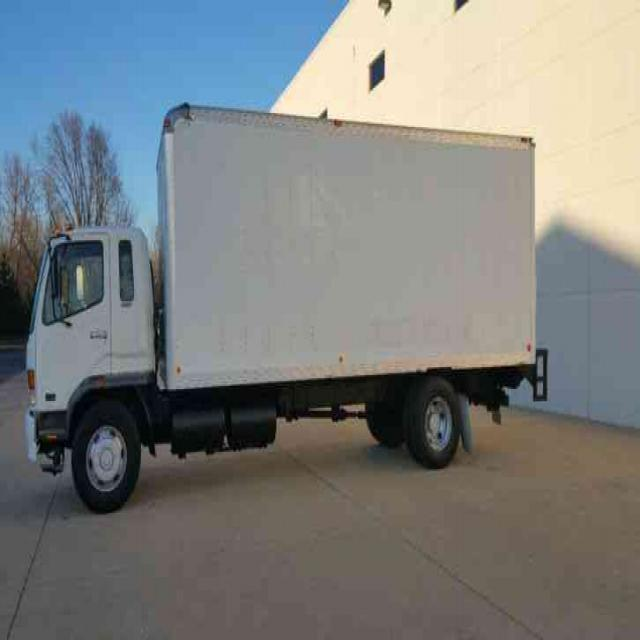bicycle: (23, 99, 550, 510)
